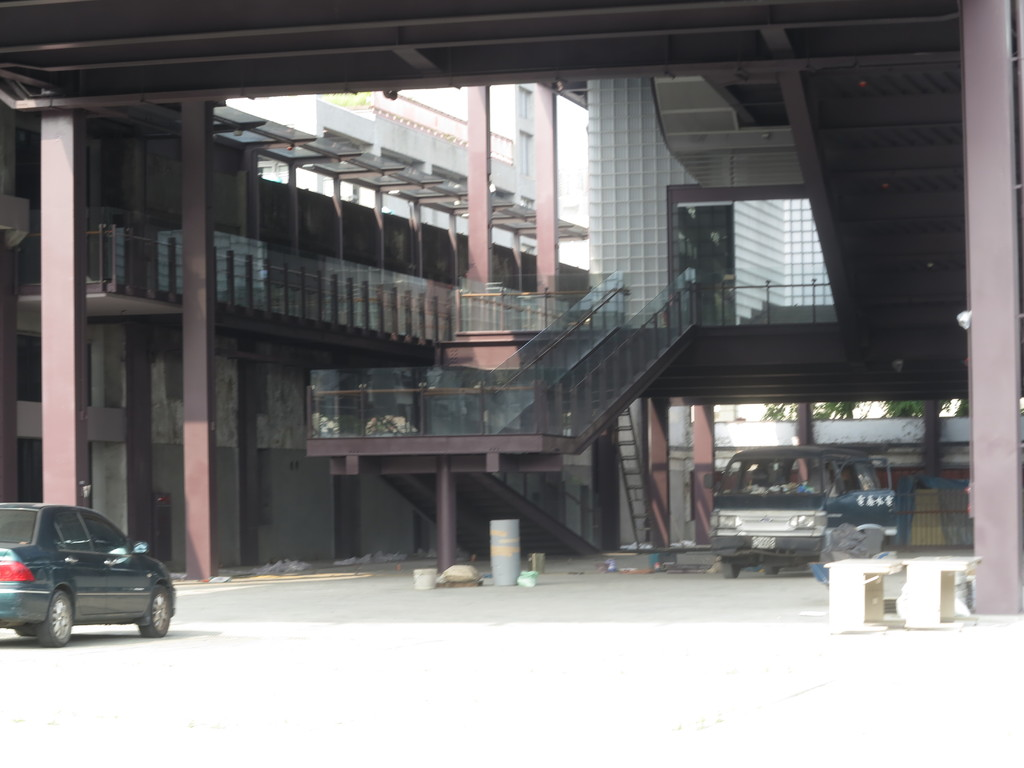mobil: (1, 501, 183, 642)
